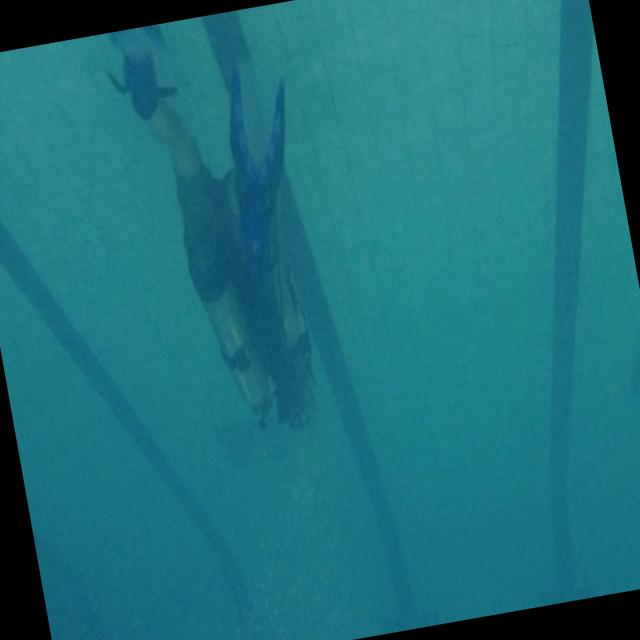human: (100, 3, 346, 454)
